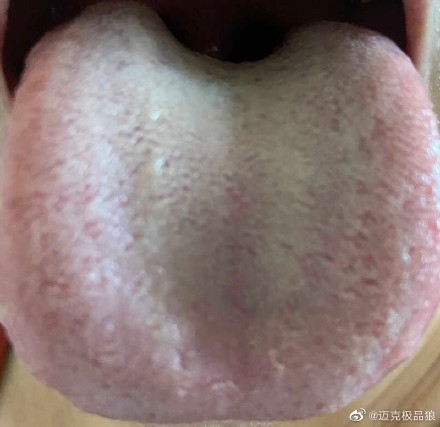baitaishe: (1, 1, 439, 421)
pangdashe: (1, 1, 439, 421)
shenquao: (116, 1, 347, 92)
